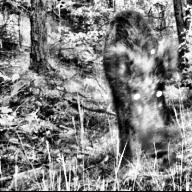boar: (98, 16, 186, 178)
